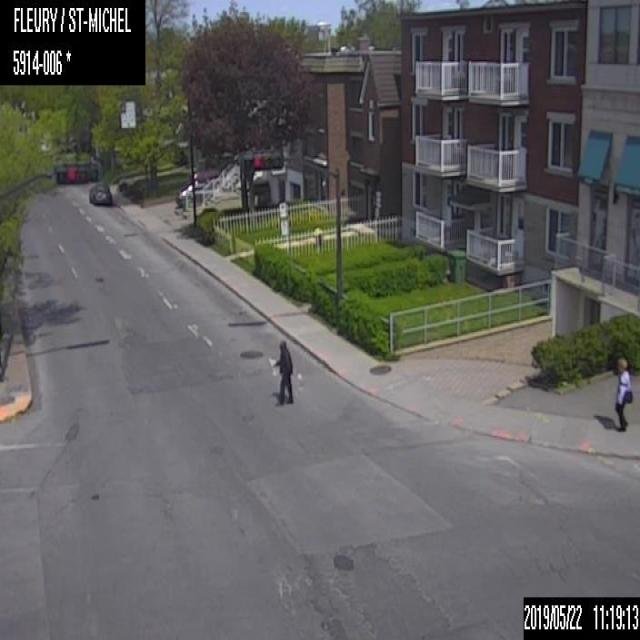pedestrian: (614, 354, 634, 430), (274, 339, 292, 405)
vehicle: (171, 169, 218, 210), (87, 179, 114, 208)
